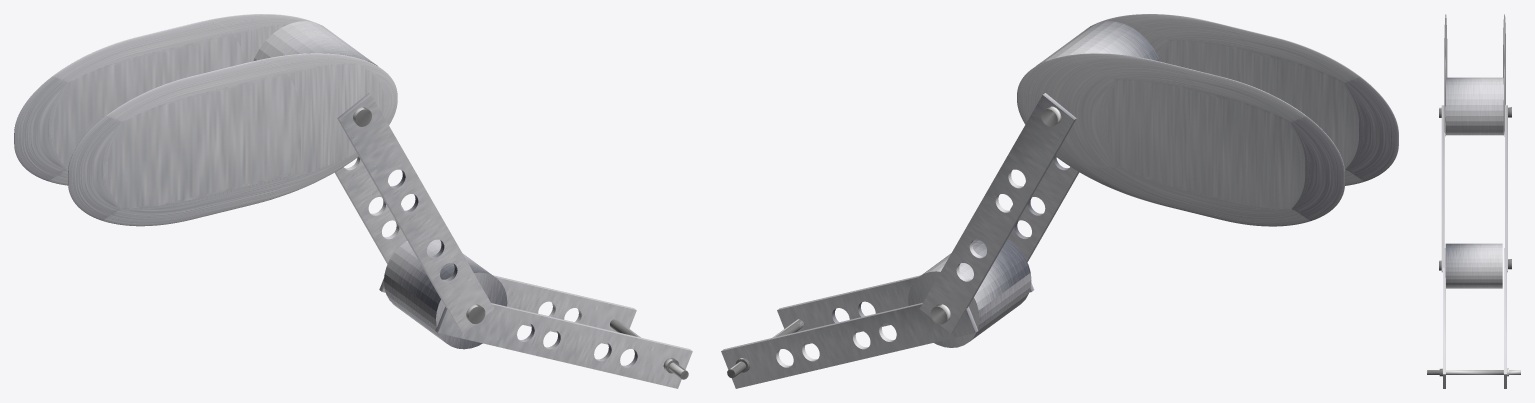
The model's file is crepl_for_tube3.glb.
3 renders of one model, left to right at view 1: azimuth 30°, elevation 25°; view 2: azimuth 150°, elevation 25°; view 3: azimuth 270°, elevation 25°, orthographic. The views are drawn at different scales.
Parts seen in each view (by area): view 1: Cylinder.026; view 2: Cylinder.026; view 3: Cylinder.026.
Boxes of the visible parts, box(x1,y1,x2,y2) form: Cylinder.026: box(14, 14, 692, 388); Cylinder.026: box(721, 14, 1398, 388); Cylinder.026: box(1427, 14, 1520, 388).
Bounding box in the file's own units: 13.92 × 9.17 × 3.33.
4 materials, 4 textured.
